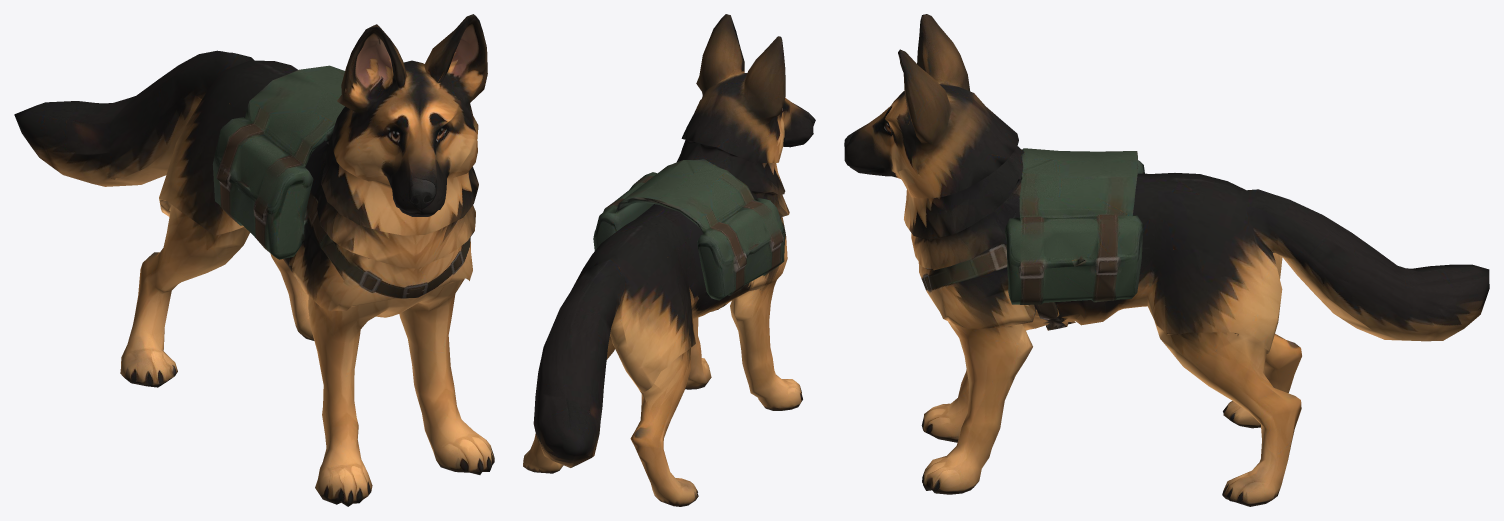
The model's file is trail_pup.fbx.
3 renders of one model, left to right at view 1: azimuth 30°, elevation 25°; view 2: azimuth 150°, elevation 25°; view 3: azimuth 270°, elevation 25°, orthographic. The views are drawn at different scales.
Visible parts, largest first — view 1: Mesh_0; view 2: Mesh_0; view 3: Mesh_0.
Part boxes in pixels (x1,y1,x2,y2): Mesh_0: (14,14,494,506); Mesh_0: (523,14,815,506); Mesh_0: (844,14,1489,506).
Size of the model in its own units: 0.3641 by 0.7301 by 1.
Materials: 1 (1 with a texture image).
